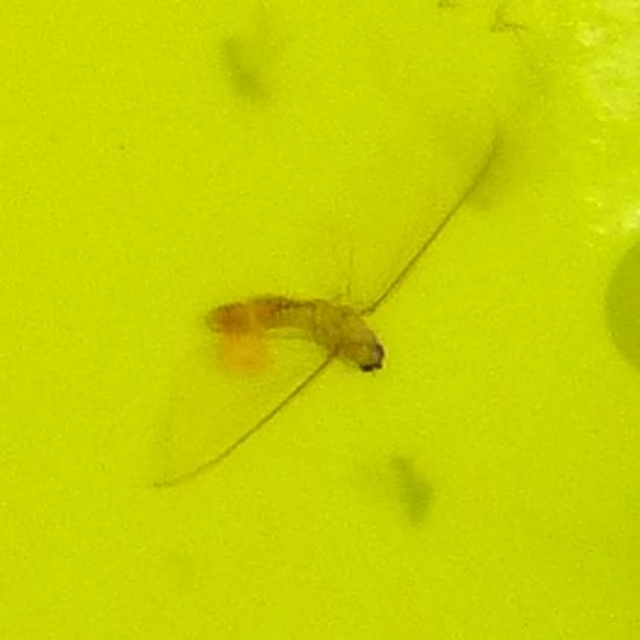Ephemeroptera: (152, 152, 488, 488)
